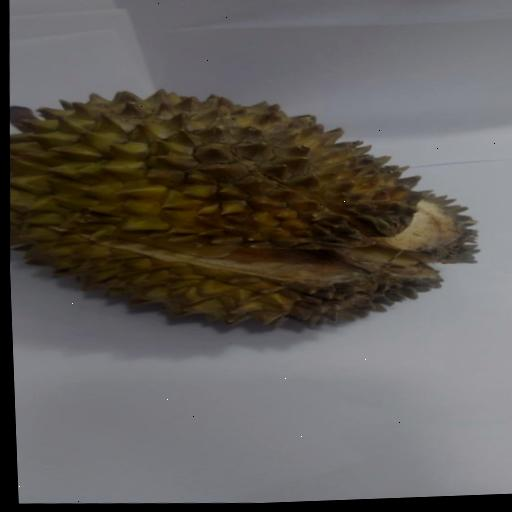rot: (3, 66, 508, 355)
